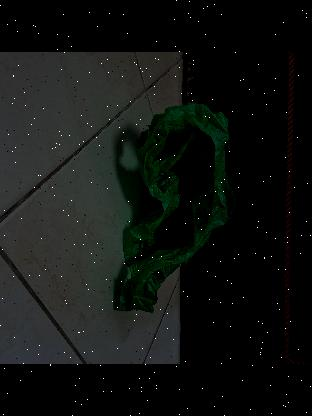Others: (82, 98, 248, 316)
